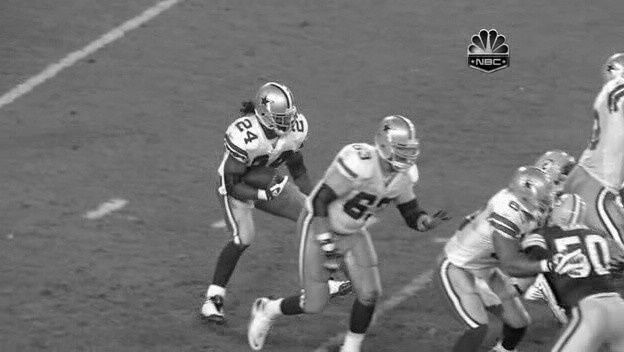person: (260, 84, 296, 130), (259, 84, 295, 130), (261, 84, 297, 130), (260, 83, 296, 129), (260, 85, 296, 131)
target_negative: (374, 152, 446, 319), (146, 322, 521, 349), (139, 220, 391, 243), (430, 90, 512, 153), (565, 102, 584, 310), (372, 344, 402, 349)
